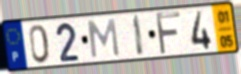0: (28, 23, 51, 65)
2: (53, 20, 83, 66)
4: (190, 9, 214, 52)
F: (154, 10, 183, 57)
I: (132, 14, 146, 58)
M: (86, 17, 121, 60)
